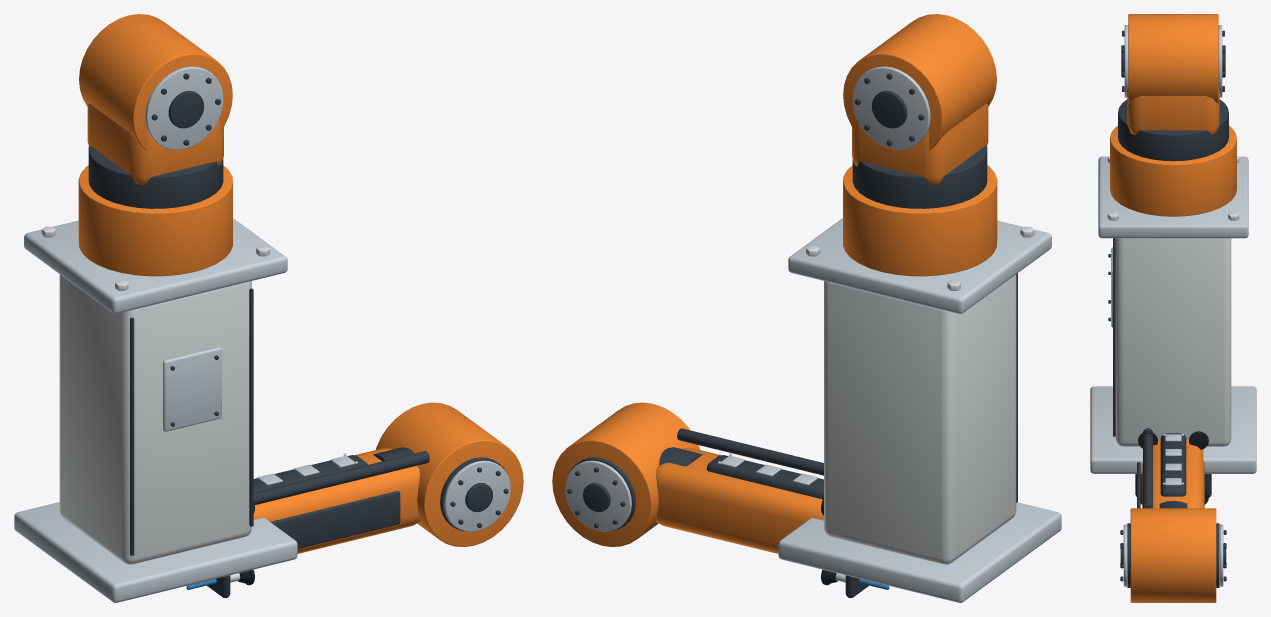
File: cell-models.glb
The picture shows the model from 3 angles, left to right: view 1: azimuth 30°, elevation 25°; view 2: azimuth 150°, elevation 25°; view 3: azimuth 270°, elevation 25°; orthographic projection. The views are drawn at different scales.
Parts seen in each view (by area): view 1: Pedestal, Foot plate, J1 skirt, Shoulder rotary cover, Mount flange, Elbow casting, Cast upper arm, J1 turntable, Shoulder gearbox, Base service door, Arm side cover, Shoulder flange.001 (+7 smaller); view 2: Pedestal, Foot plate, J1 skirt, Cast upper arm, Shoulder rotary cover, Mount flange, Elbow casting, J1 turntable, Shoulder gearbox, Shoulder flange, Elbow flange, Forearm cable housing (+3 smaller); view 3: Pedestal, Elbow casting, Shoulder rotary cover, J1 skirt, Foot plate, Mount flange, J1 turntable, Shoulder gearbox, Cast upper arm, Forearm cable housing, Cable sleeve, Column extrusion slot.001 (+8 smaller).
Part boxes in pixels (bbox=[...]): Pedestal: bbox=[59, 274, 251, 564]; Foot plate: bbox=[14, 502, 297, 602]; J1 skirt: bbox=[78, 165, 232, 276]; Shoulder rotary cover: bbox=[79, 14, 232, 150]; Mount flange: bbox=[24, 218, 287, 313]; Elbow casting: bbox=[376, 402, 523, 546]; Cast upper arm: bbox=[253, 448, 419, 553]; J1 turntable: bbox=[88, 145, 223, 208]; Shoulder gearbox: bbox=[87, 104, 223, 184]; Base service door: bbox=[163, 347, 221, 431]; Arm side cover: bbox=[270, 491, 400, 548]; Shoulder flange.001: bbox=[145, 66, 223, 149]; Pedestal: bbox=[824, 274, 1016, 564]; Foot plate: bbox=[778, 502, 1061, 602]; J1 skirt: bbox=[843, 165, 997, 276]; Cast upper arm: bbox=[656, 448, 823, 553]; Shoulder rotary cover: bbox=[843, 14, 996, 150]; Mount flange: bbox=[788, 218, 1051, 313]; Elbow casting: bbox=[552, 402, 699, 546]; J1 turntable: bbox=[852, 145, 987, 208]; Shoulder gearbox: bbox=[852, 104, 988, 184]; Shoulder flange: bbox=[852, 66, 930, 149]; Elbow flange: bbox=[565, 460, 631, 531]; Forearm cable housing: bbox=[706, 455, 823, 499]; Pedestal: bbox=[1115, 238, 1231, 446]; Elbow casting: bbox=[1130, 508, 1216, 602]; Shoulder rotary cover: bbox=[1128, 14, 1218, 103]; J1 skirt: bbox=[1110, 126, 1236, 216]; Foot plate: bbox=[1090, 386, 1256, 473]; Mount flange: bbox=[1098, 156, 1248, 238]; J1 turntable: bbox=[1118, 99, 1228, 161]; Shoulder gearbox: bbox=[1127, 88, 1219, 134]; Cast upper arm: bbox=[1142, 439, 1204, 508]; Forearm cable housing: bbox=[1160, 433, 1186, 496]; Cable sleeve: bbox=[1143, 428, 1152, 508]; Column extrusion slot.001: bbox=[1113, 241, 1115, 436].
Size of the model in its own units: 1.79 by 2.21 by 0.72.
